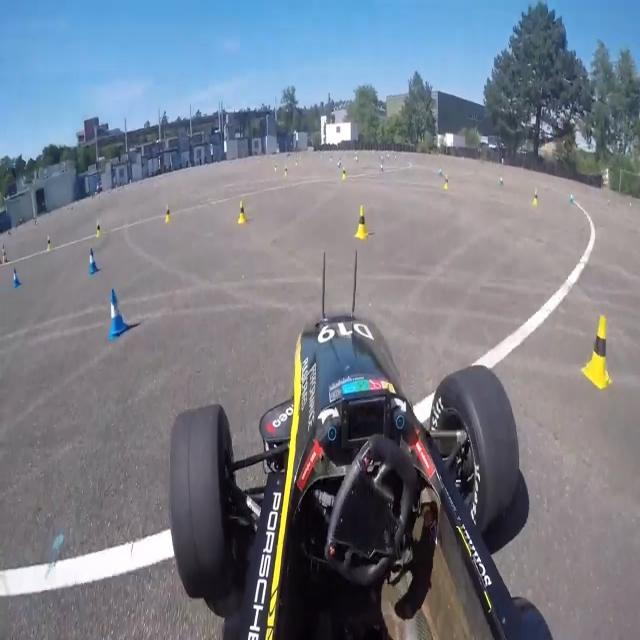blue_cone: (108, 289, 130, 342), (89, 247, 100, 277), (12, 266, 22, 290)
yellow_cone: (580, 313, 612, 389), (355, 204, 369, 240), (237, 199, 247, 225), (166, 204, 172, 223)
